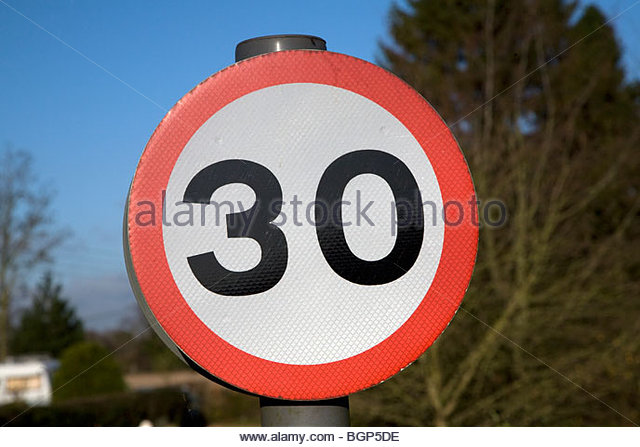Speed_limit_30km: (130, 53, 481, 392)
